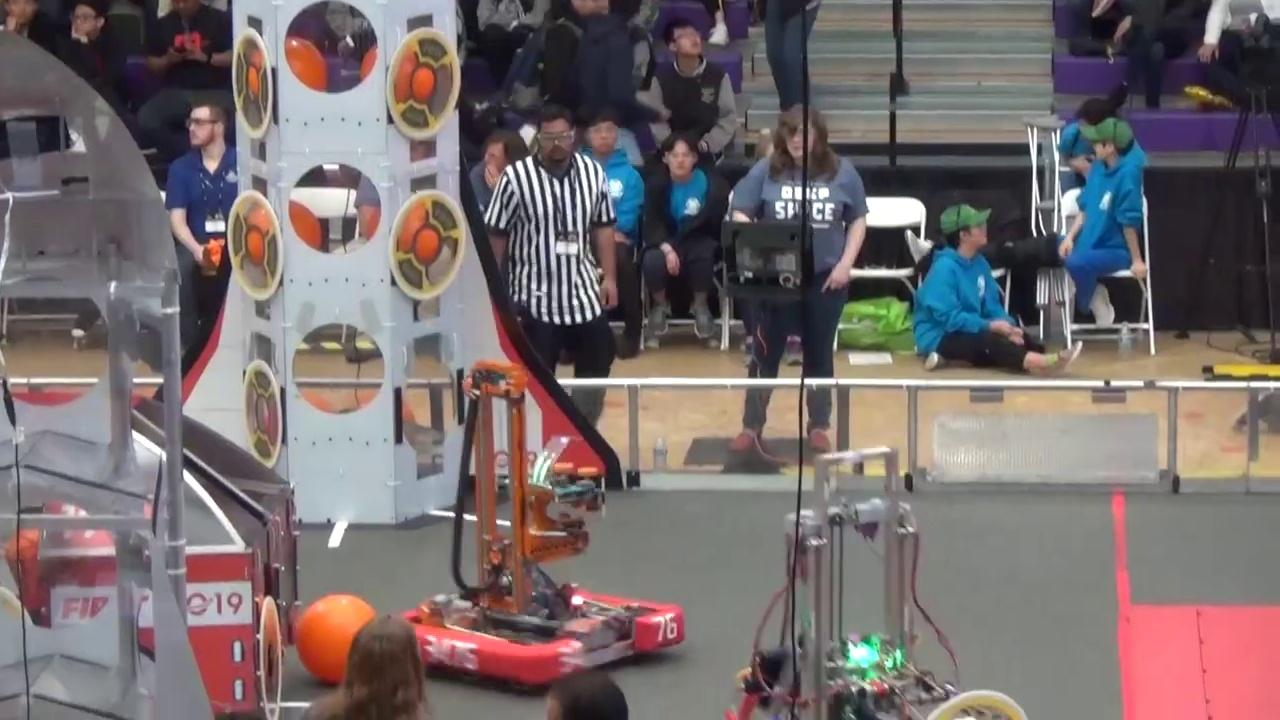robot: (379, 355, 688, 697), (726, 442, 929, 720)
